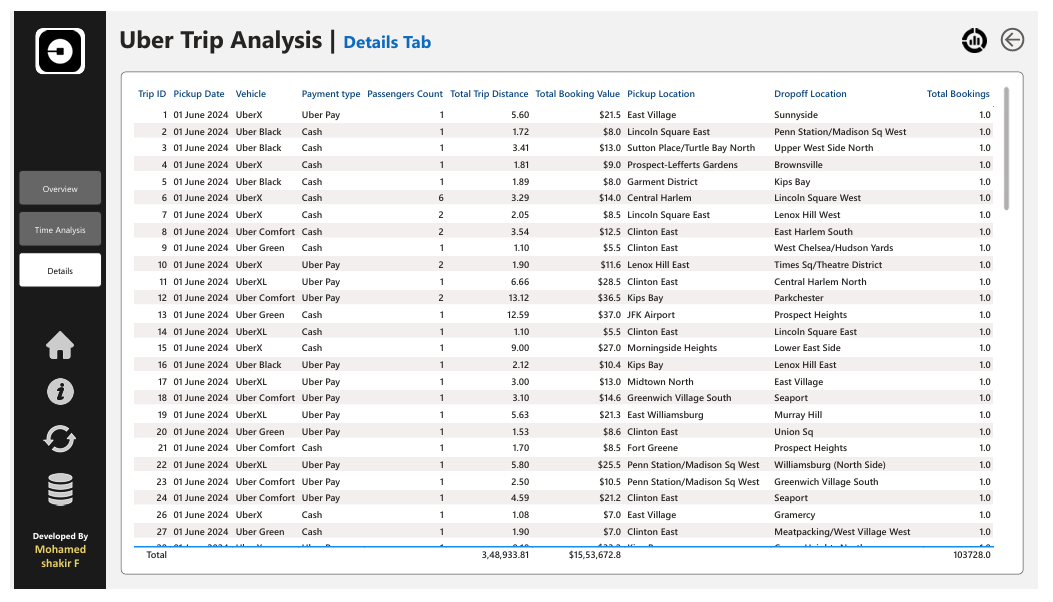

The dashboard page shown, as its layout file describes it:
{"tool":"powerbi","page":{"name":"Details","canvas":[1600,900],"ordinal":2},"visuals":[{"type":"shape","box":[6.5,0,142.3,900.3],"z":0},{"type":"textbox","box":[164.2,11.6,677.3,62.5],"z":1000},{"type":"shape","box":[38.8,25.5,76.6,72.5],"z":1000,"group":"g1"},{"type":"group","id":"g1","title":"Group 1","box":[38.8,21.6,76.5,80.9],"z":2000},{"type":"image","box":[40.1,21.6,74.8,80.4],"z":2000,"group":"g1"},{"type":"shape","box":[171.7,94.4,1406.1,783.6],"z":3000},{"type":"tableEx","fields":{"Values":["Trip Details.Trip ID","Trip Details.Pickup Date","Trip Details.Vehicle","Trip Details.type_payment_type","Trip Details.passenger_count","Trip Details.Total Trip Distance Meaure","Trip Details.Total Booking Value","Trip Details.Pickup Location","Trip Details.Drop-Off Location","Trip Details.Total Bookings"]},"box":[188.4,112.2,1373,750.8],"z":4000},{"type":"textbox","box":[13.8,735.2,128.4,143.7],"z":12000}]}

Visuals, with their boxes on the page's 1600x900 design canvas (x1, y1, x2, y2). These are canvas units, not pixel positions in the 1053x602 screenshot, which may show the page scaled, cropped or inside an application window:
shape: 6, 0, 149, 900
textbox: 164, 12, 842, 74
shape: 39, 26, 115, 98
"Group 1" group: 39, 22, 115, 102
image: 40, 22, 115, 102
shape: 172, 94, 1578, 878
tableEx - Trip Details.Trip ID x Trip Details.Pickup Date: 188, 112, 1561, 863
textbox: 14, 735, 142, 879
